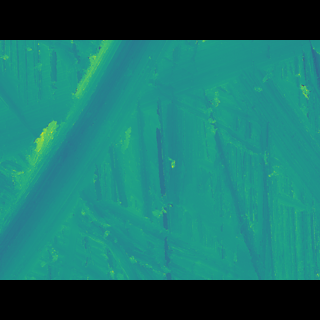Loch: (0, 69, 175, 250), (221, 89, 319, 205)
